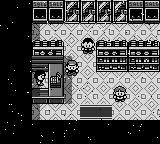leer: (50, 73, 63, 89)
main: (65, 60, 80, 76)
no-caminable: (0, 0, 159, 143), (97, 40, 159, 72), (64, 0, 129, 24), (129, 0, 159, 24), (33, 0, 64, 23), (33, 40, 64, 60), (32, 88, 49, 104), (32, 60, 49, 73), (49, 90, 64, 103), (50, 64, 62, 72)
npc: (112, 86, 128, 102), (81, 38, 95, 54), (34, 70, 46, 86)
puerta: (78, 105, 114, 120)
